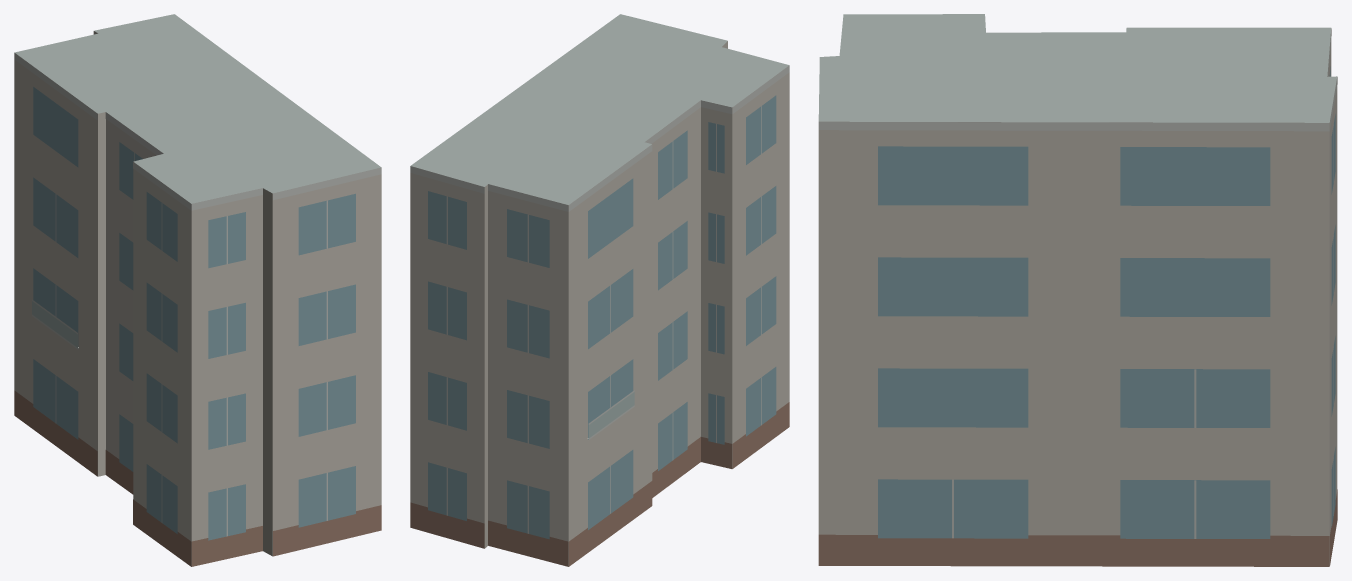
File: survey-upis-32474505.glb
The picture shows the model from 3 angles, left to right: view 1: azimuth 30°, elevation 25°; view 2: azimuth 150°, elevation 25°; view 3: azimuth 270°, elevation 25°; orthographic projection. The views are drawn at different scales.
Visible parts, largest first — view 1: survey-upis-32474505.tmp; view 2: survey-upis-32474505.tmp; view 3: survey-upis-32474505.tmp.
Boxes of the visible parts, x1,y1,x2,y2 form: survey-upis-32474505.tmp: [14, 14, 381, 566]; survey-upis-32474505.tmp: [410, 14, 789, 566]; survey-upis-32474505.tmp: [818, 14, 1337, 566].
Bounding box in the file's own units: 6.79 × 12.9 × 13.67.
